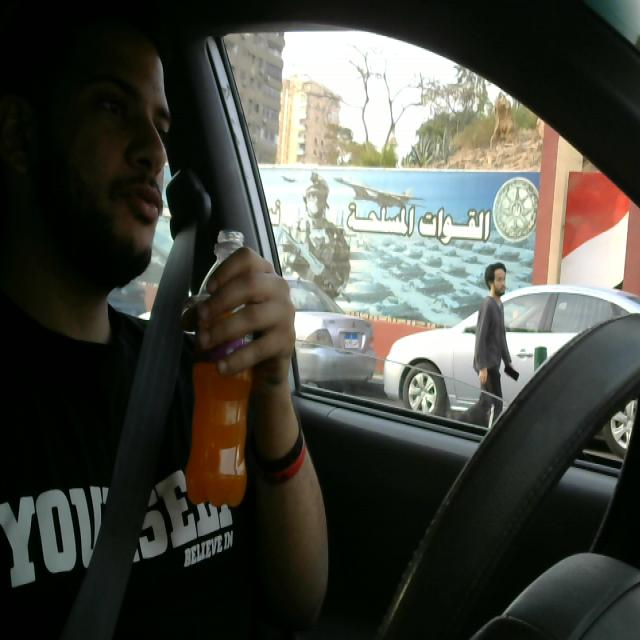drinking: (187, 224, 255, 512)
